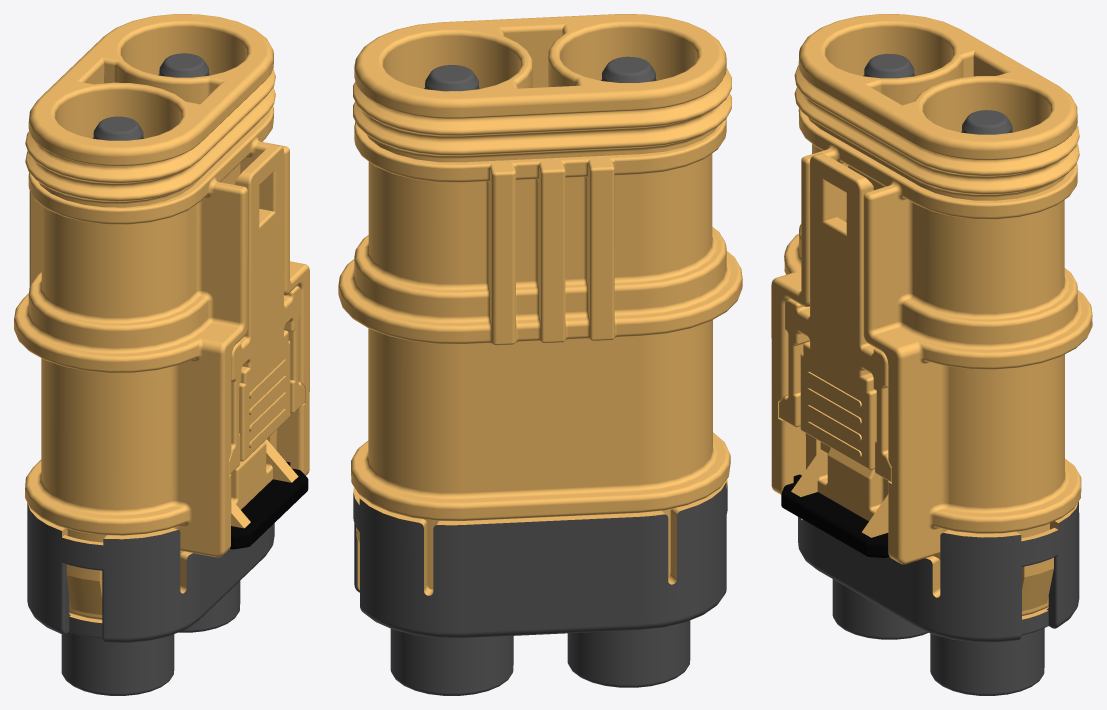
The model's file is GYHE-2-80T-A.glb.
3 views of the same model, side by side, from view 1: azimuth 30°, elevation 25°; view 2: azimuth 150°, elevation 25°; view 3: azimuth 270°, elevation 25° (orthographic). The views are drawn at different scales.
Visible parts, largest first — view 1: GYHE-2-80T-A v2; view 2: GYHE-2-80T-A v2; view 3: GYHE-2-80T-A v2.
Part boxes in pixels (<box>): GYHE-2-80T-A v2: <box>14,14,309,695</box>; GYHE-2-80T-A v2: <box>338,14,742,695</box>; GYHE-2-80T-A v2: <box>771,14,1092,695</box>.
Size of the model in its own units: 3.75 by 6.82 by 3.5.
